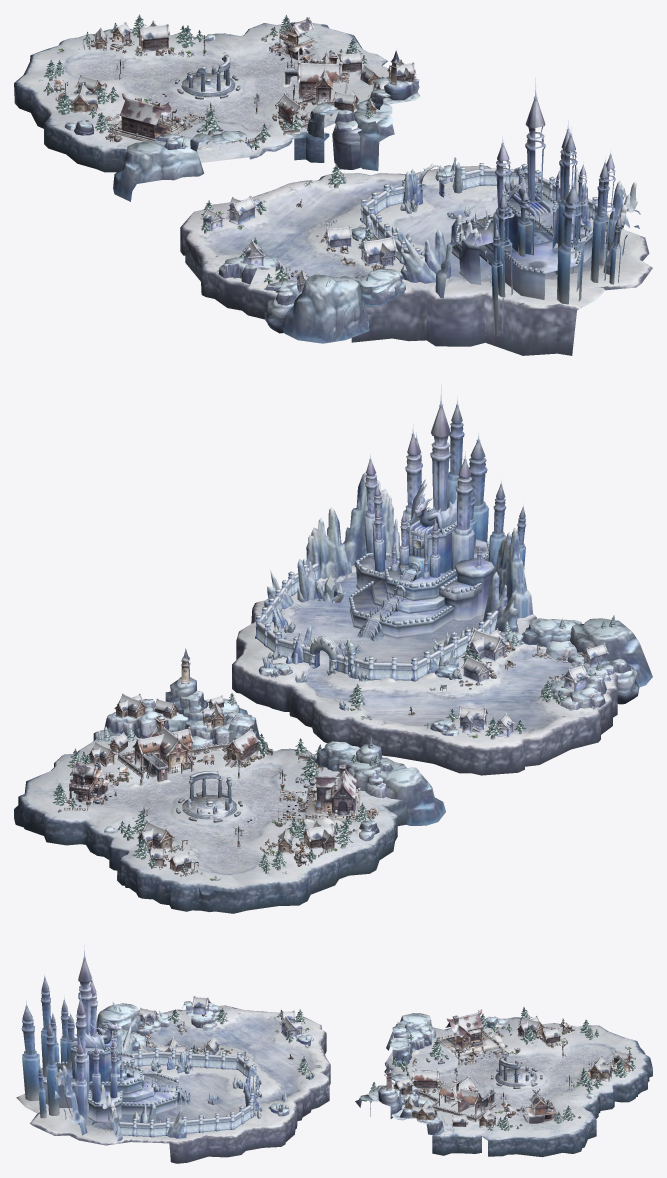
File: febg_snowvillage_001_01.glb
3 renders of one model, top to bottom at view 1: azimuth 30°, elevation 25°; view 2: azimuth 150°, elevation 25°; view 3: azimuth 270°, elevation 25°, orthographic. The views are drawn at different scales.
Visible parts, largest first — view 1: febg_snowvillage_001_bg_02, febg_snowvillage_001_bg_01, febg_snowvillage_001_castle_01, febg_snowvillage_001_guild_01, febg_snowvillage_001_inn_01, febg_snowvillage_001_cliff_01, febg_snowvillage_001_temple_01, febg_snowvillage_001_blacksmithshop_01, febg_snowvillage_001_building_08 (1), febg_snowvillage_001_icecrystal_02 (3), febg_snowvillage_001_building_01 (3), febg_snowvillage_001_balcony_01 (+8 smaller); view 2: febg_snowvillage_001_bg_02, febg_snowvillage_001_bg_01, febg_snowvillage_001_castle_01, febg_snowvillage_001_guild_01, febg_snowvillage_001_inn_01, febg_snowvillage_001_temple_01, febg_snowvillage_001_blacksmithshop_01, febg_snowvillage_001_cliff_01, febg_snowvillage_001_castleentrance_01, febg_snowvillage_001_building_08 (1), febg_snowvillage_001_guild_02, febg_snowvillage_001_balcony_01 (+2 smaller); view 3: febg_snowvillage_001_bg_02, febg_snowvillage_001_bg_01, febg_snowvillage_001_castle_01, febg_snowvillage_001_guild_01, febg_snowvillage_001_inn_01, febg_snowvillage_001_temple_01, febg_snowvillage_001_balcony_01, febg_snowvillage_001_blacksmithshop_01, febg_snowvillage_001_guild_02, febg_snowvillage_001_building_01 (3), febg_snowvillage_001_building_03 (3), febg_snowvillage_001_cliff_03 (+3 smaller).
Boxes of the visible parts, x1,y1,x2,y2 form: febg_snowvillage_001_bg_02: (180,165,652,355); febg_snowvillage_001_bg_01: (14,21,420,201); febg_snowvillage_001_castle_01: (451,78,621,336); febg_snowvillage_001_guild_01: (284,51,342,104); febg_snowvillage_001_inn_01: (116,93,176,140); febg_snowvillage_001_cliff_01: (357,268,405,306); febg_snowvillage_001_temple_01: (181,54,235,97); febg_snowvillage_001_blacksmithshop_01: (269,17,318,61); febg_snowvillage_001_building_08 (1): (359,233,397,267); febg_snowvillage_001_icecrystal_02 (3): (401,234,435,283); febg_snowvillage_001_building_01 (3): (137,20,170,51); febg_snowvillage_001_balcony_01: (108,102,204,141); febg_snowvillage_001_bg_02: (232,472,652,775); febg_snowvillage_001_bg_01: (14,677,445,913); febg_snowvillage_001_castle_01: (349,384,526,641); febg_snowvillage_001_guild_01: (132,715,194,782); febg_snowvillage_001_inn_01: (309,762,356,815); febg_snowvillage_001_temple_01: (182,771,236,819); febg_snowvillage_001_blacksmithshop_01: (69,758,111,805); febg_snowvillage_001_cliff_01: (522,618,582,647); febg_snowvillage_001_castleentrance_01: (300,635,348,674); febg_snowvillage_001_building_08 (1): (467,628,507,661); febg_snowvillage_001_guild_02: (223,727,260,767); febg_snowvillage_001_balcony_01: (278,787,360,822); febg_snowvillage_001_bg_02: (16,1001,330,1163); febg_snowvillage_001_bg_01: (355,1013,652,1157); febg_snowvillage_001_castle_01: (21,945,190,1124); febg_snowvillage_001_guild_01: (437,1075,495,1115); febg_snowvillage_001_inn_01: (445,1009,485,1050); febg_snowvillage_001_temple_01: (495,1052,537,1086); febg_snowvillage_001_balcony_01: (435,1029,509,1065); febg_snowvillage_001_blacksmithshop_01: (516,1088,555,1123); febg_snowvillage_001_guild_02: (412,1068,440,1090); febg_snowvillage_001_building_01 (3): (588,1055,612,1082); febg_snowvillage_001_building_03 (3): (517,1015,544,1037); febg_snowvillage_001_cliff_03: (137,1009,170,1035).
Size of what is drawn, in the model's own units: 118 by 75.06 by 229.
12 materials, 12 textured.
